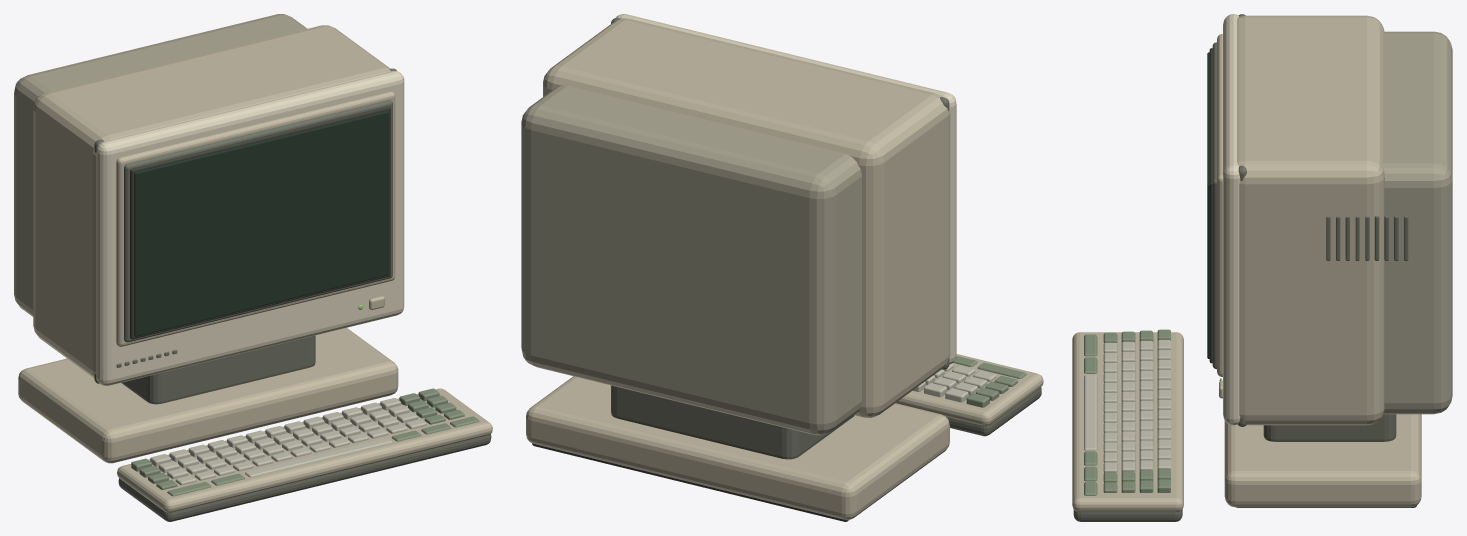
File: monitor.glb
3 views of the same model, side by side, from view 1: azimuth 30°, elevation 25°; view 2: azimuth 150°, elevation 25°; view 3: azimuth 270°, elevation 25° (orthographic). The views are drawn at different scales.
Visible parts, largest first — view 1: CRT screen, CRT upper clamshell, CRT front bezel, Desk plinth, CRT rear housing, Keyboard upper panel, Pedestal arm, CRT chamfer border, CRT shadow border, Keyboard base, CRT interior gasket, Bottom row key.002; view 2: CRT rear housing, CRT upper clamshell, Desk plinth, Pedestal arm, CRT front bezel, Keyboard upper panel, Keyboard base, Desk plinth foot; view 3: CRT upper clamshell, CRT rear housing, Desk plinth, Keyboard upper panel, CRT front bezel, Pedestal arm, CRT chamfer border, CRT shadow border, CRT interior gasket, Keyboard base, Bottom row key.002, CRT screen.
Part boxes in pixels (<box>): CRT screen: <box>134,110,389,336</box>; CRT upper clamshell: <box>33,25,390,377</box>; CRT front bezel: <box>96,71,404,385</box>; Desk plinth: <box>18,328,398,463</box>; CRT rear housing: <box>14,14,307,316</box>; Keyboard upper panel: <box>117,388,492,512</box>; Pedestal arm: <box>121,335,315,404</box>; CRT chamfer border: <box>116,91,395,346</box>; CRT shadow border: <box>124,100,392,342</box>; Keyboard base: <box>118,434,491,521</box>; CRT interior gasket: <box>130,106,390,339</box>; Bottom row key.002: <box>245,437,392,477</box>; CRT rear housing: <box>521,85,861,435</box>; CRT upper clamshell: <box>543,18,950,417</box>; Desk plinth: <box>526,376,949,520</box>; Pedestal arm: <box>611,385,854,459</box>; CRT front bezel: <box>616,14,956,364</box>; Keyboard upper panel: <box>895,354,1043,425</box>; Keyboard base: <box>946,387,1041,436</box>; Desk plinth foot: <box>532,443,848,521</box>; CRT upper clamshell: <box>1237,15,1384,425</box>; CRT rear housing: <box>1383,31,1452,414</box>; Desk plinth: <box>1224,414,1421,507</box>; Keyboard upper panel: <box>1072,332,1183,511</box>; CRT front bezel: <box>1223,14,1240,425</box>; Pedestal arm: <box>1263,414,1396,441</box>; CRT chamfer border: <box>1217,34,1222,376</box>; CRT shadow border: <box>1212,42,1216,369</box>; CRT interior gasket: <box>1209,48,1212,363</box>; Keyboard base: <box>1073,509,1182,521</box>; Bottom row key.002: <box>1084,375,1097,450</box>; CRT screen: <box>1207,52,1209,358</box>.
Bounding box in the file's own units: 4.75 × 4.5 × 4.46.
